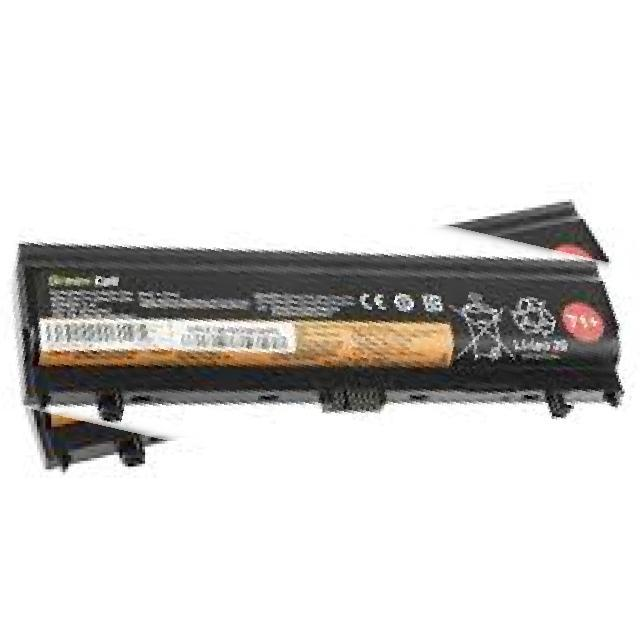Battery: (0, 215, 638, 446)
